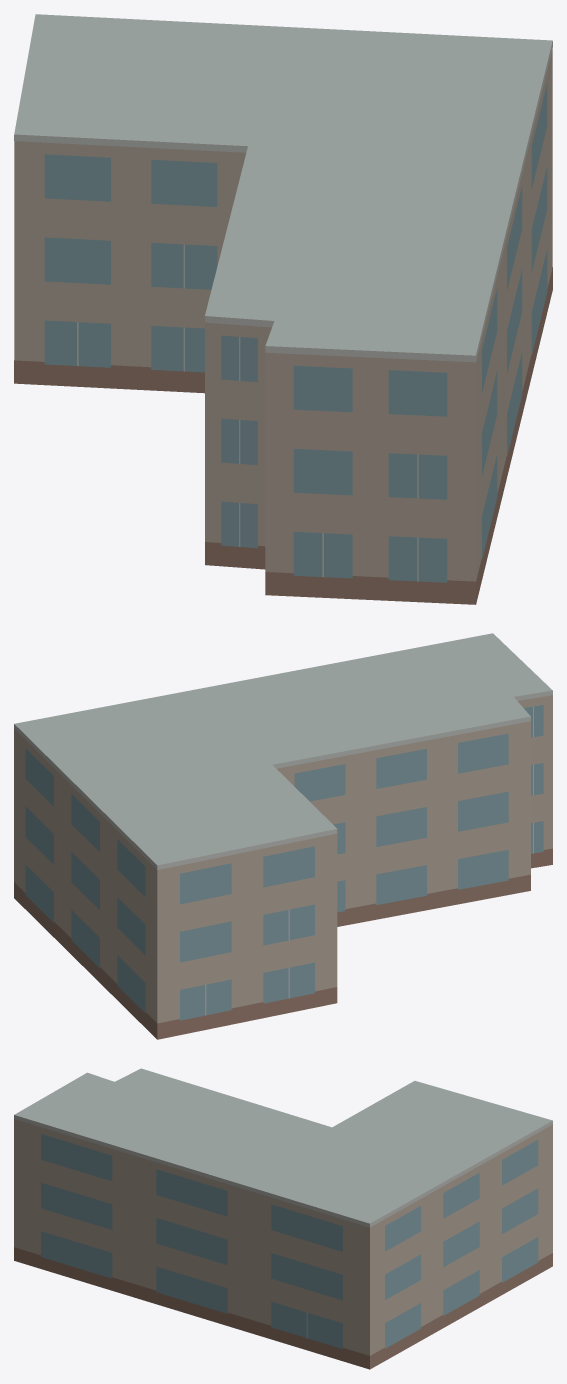
The model's file is survey-upis-32947689.glb.
3 renders of one model, top to bottom at view 1: azimuth 30°, elevation 25°; view 2: azimuth 150°, elevation 25°; view 3: azimuth 270°, elevation 25°, orthographic. The views are drawn at different scales.
Parts seen in each view (by area): view 1: survey-upis-32947689.tmp; view 2: survey-upis-32947689.tmp; view 3: survey-upis-32947689.tmp.
Part boxes in pixels (bbox=[...]): survey-upis-32947689.tmp: bbox=[14, 14, 552, 604]; survey-upis-32947689.tmp: bbox=[14, 633, 552, 1039]; survey-upis-32947689.tmp: bbox=[14, 1068, 552, 1369].
Bounding box in the file's own units: 20.9 × 9.15 × 30.64.
